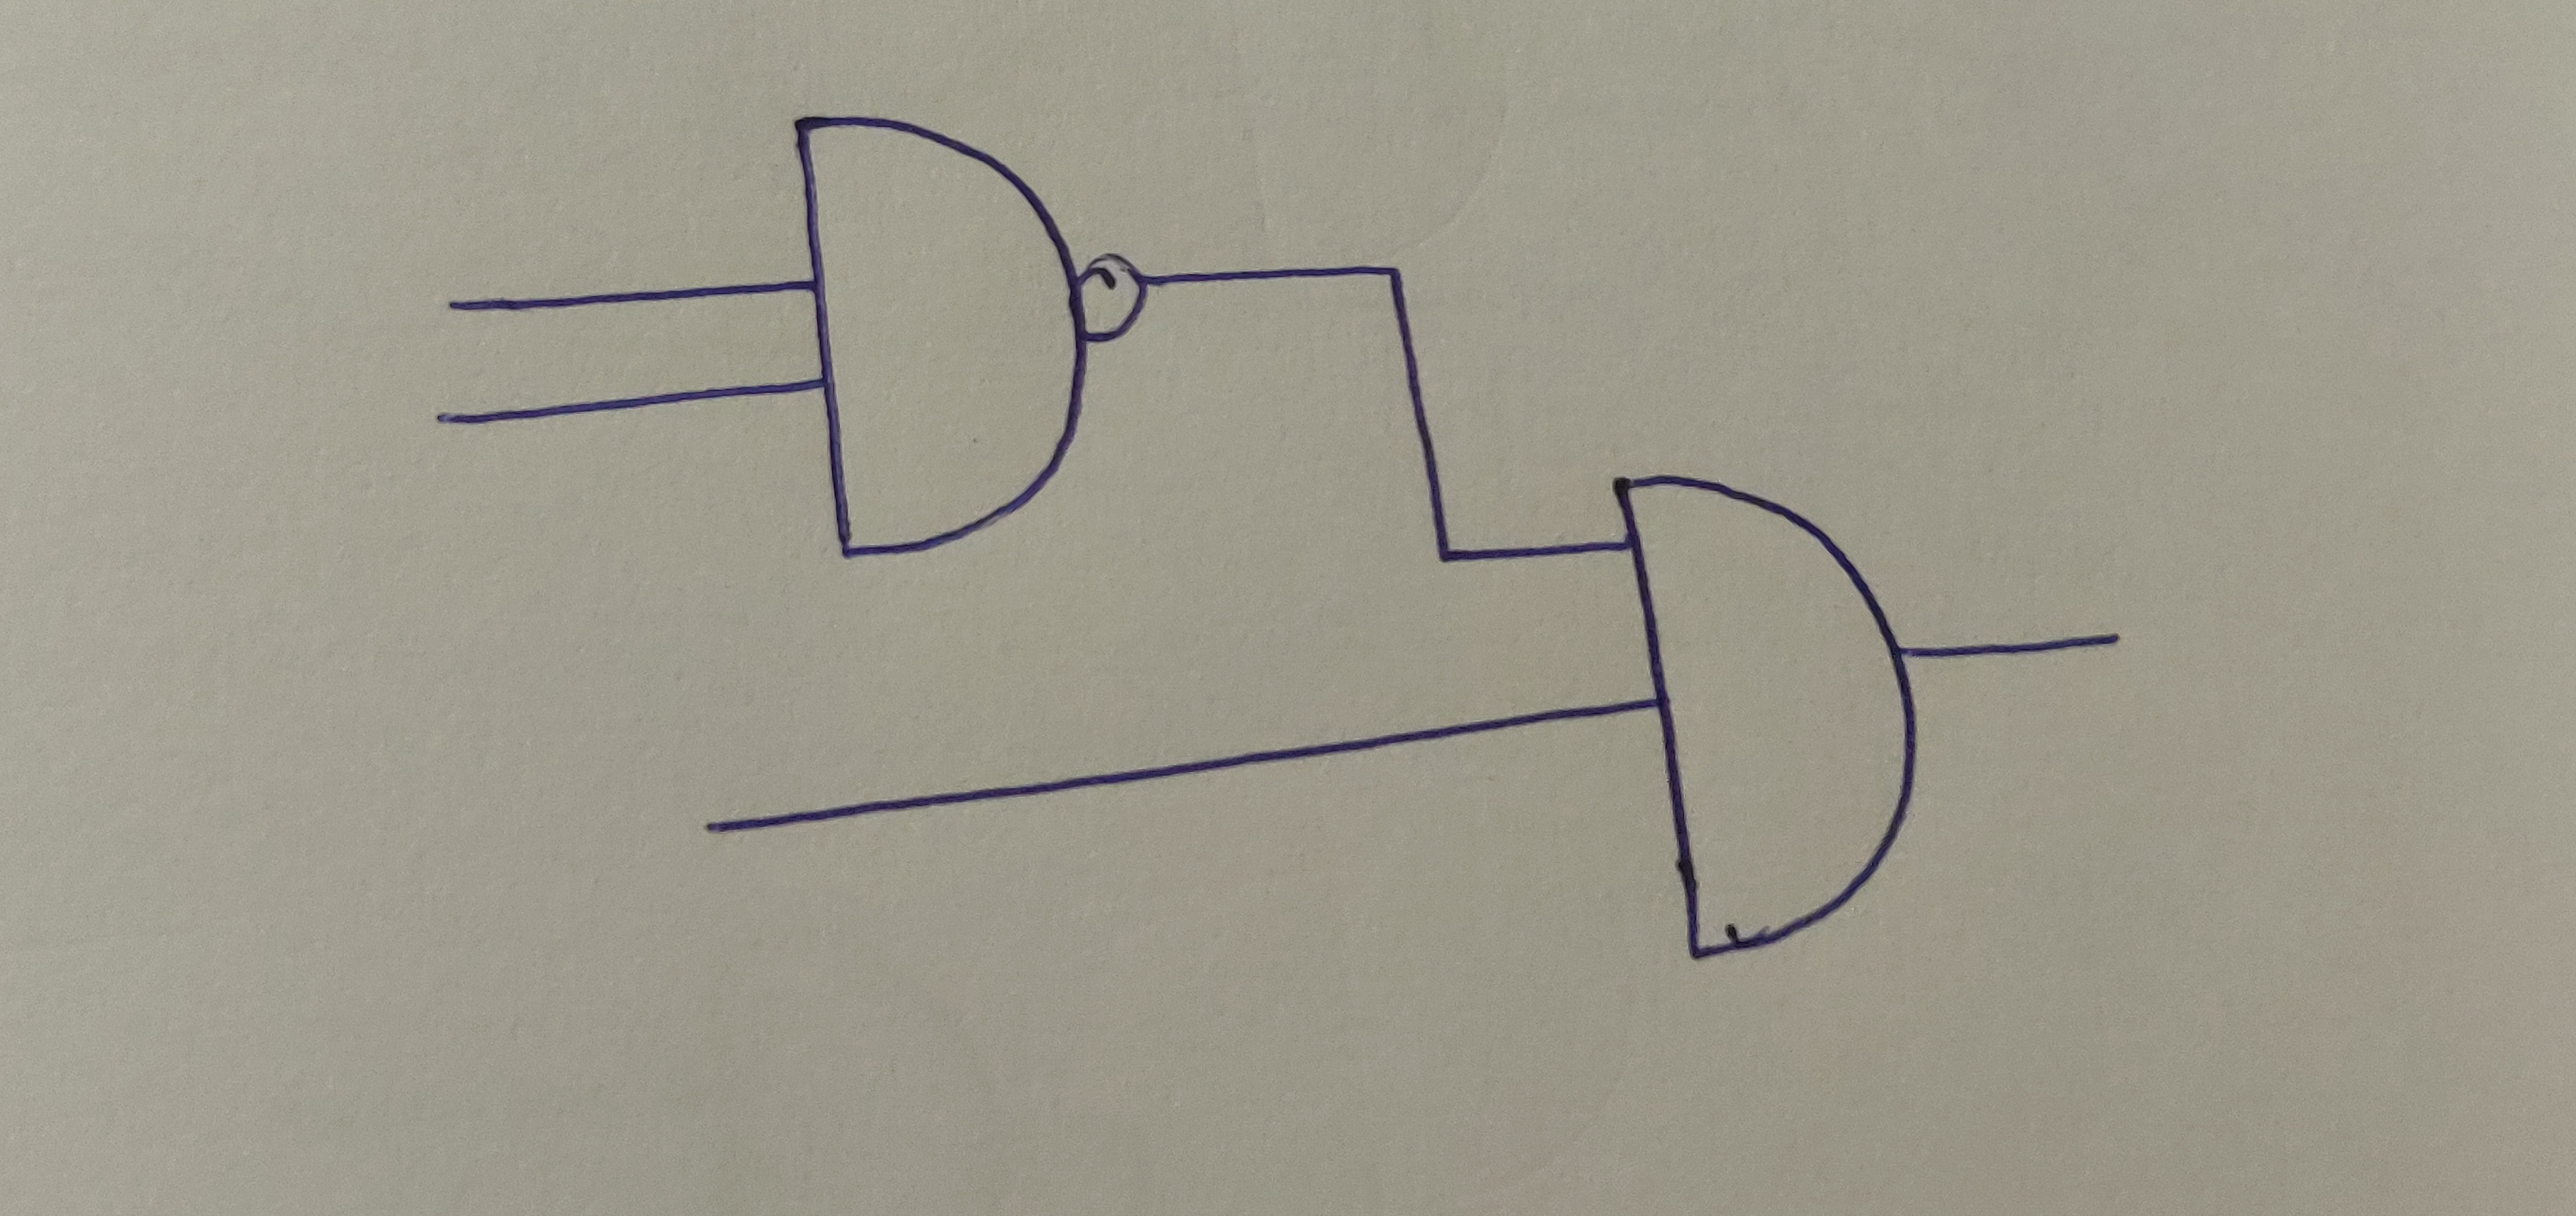and: (1618, 477, 1917, 960), (789, 113, 1084, 557)
not: (1074, 255, 1150, 342)
